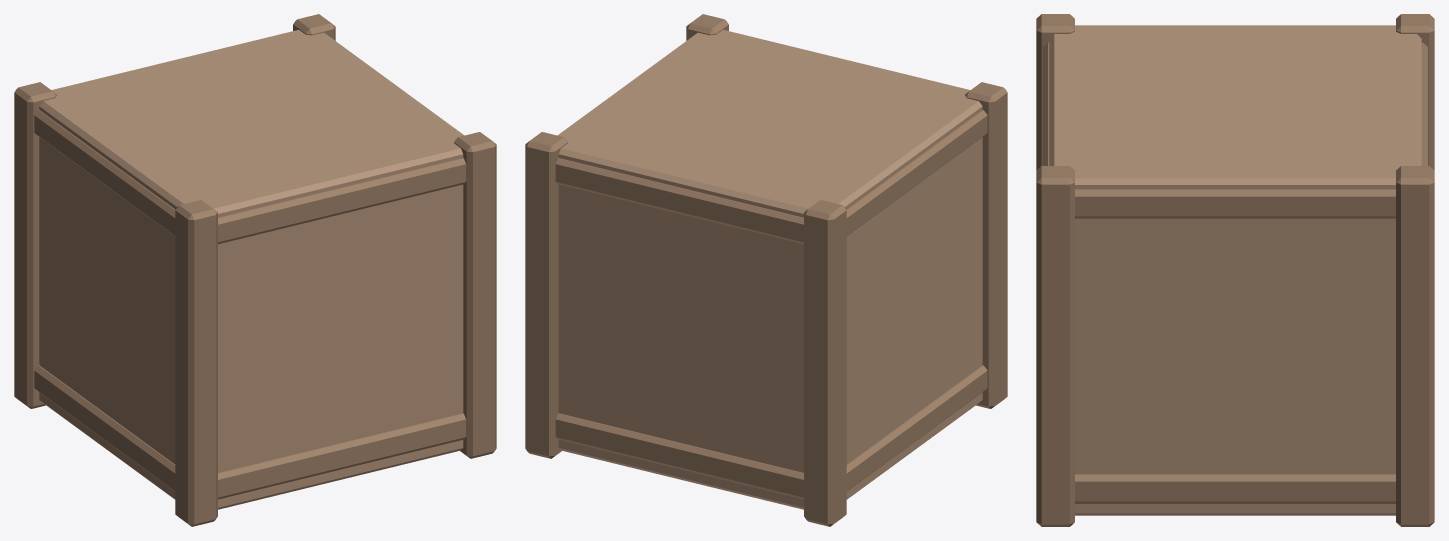
File: SM_Crate.fbx
3 renders of one model, left to right at view 1: azimuth 30°, elevation 25°; view 2: azimuth 150°, elevation 25°; view 3: azimuth 270°, elevation 25°, orthographic. The views are drawn at different scales.
Parts seen in each view (by area): view 1: Crate; view 2: Crate; view 3: Crate.
Part boxes in pixels (x1=…): Crate: x1=14, y1=14, x2=496, y2=526; Crate: x1=525, y1=14, x2=1007, y2=526; Crate: x1=1036, y1=14, x2=1434, y2=526.
Size of the model in its own units: 62 by 60 by 62.
